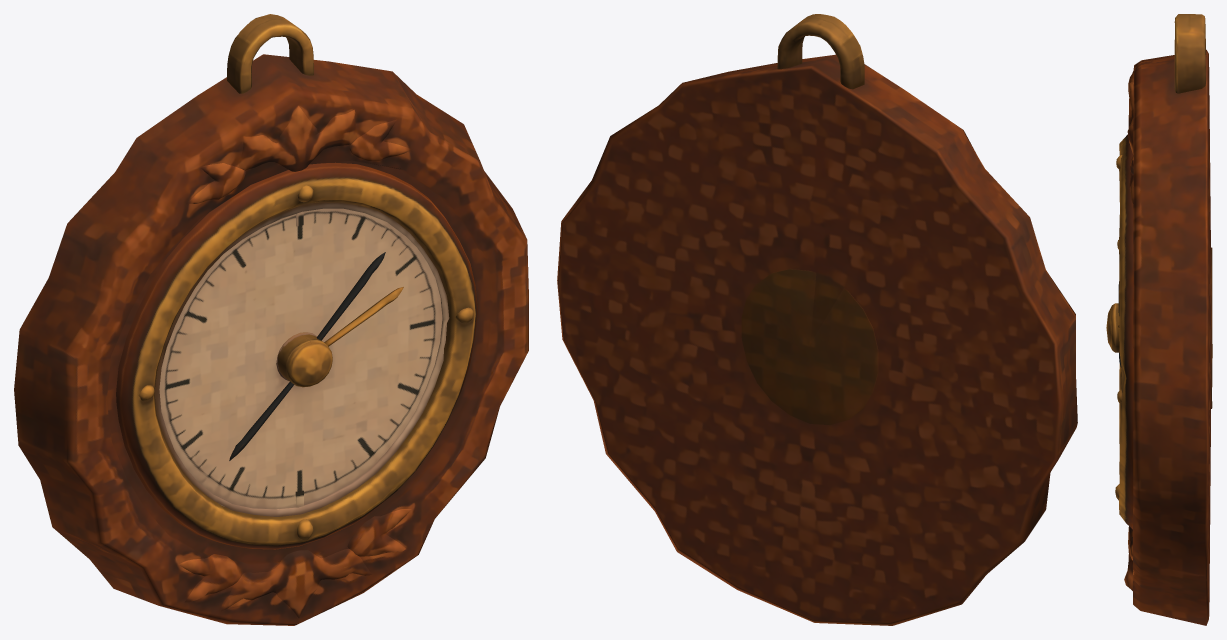
File: barometer.glb
3 views of the same model, side by side, from view 1: azimuth 30°, elevation 25°; view 2: azimuth 150°, elevation 25°; view 3: azimuth 270°, elevation 25° (orthographic). The views are drawn at different scales.
Visible parts, largest first — view 1: geometry_0; view 2: geometry_0; view 3: geometry_0.
Boxes of the visible parts, <box> form: geometry_0: <box>14,14,528,625</box>; geometry_0: <box>557,14,1077,625</box>; geometry_0: <box>1106,14,1212,625</box>.
Bounding box in the file's own units: 0.8868 × 1 × 0.1659.
1 material, 1 textured.
